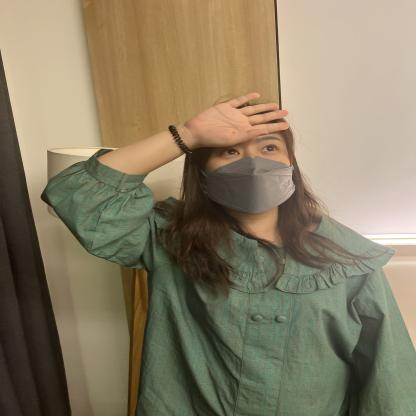Sick: (86, 79, 309, 214)
